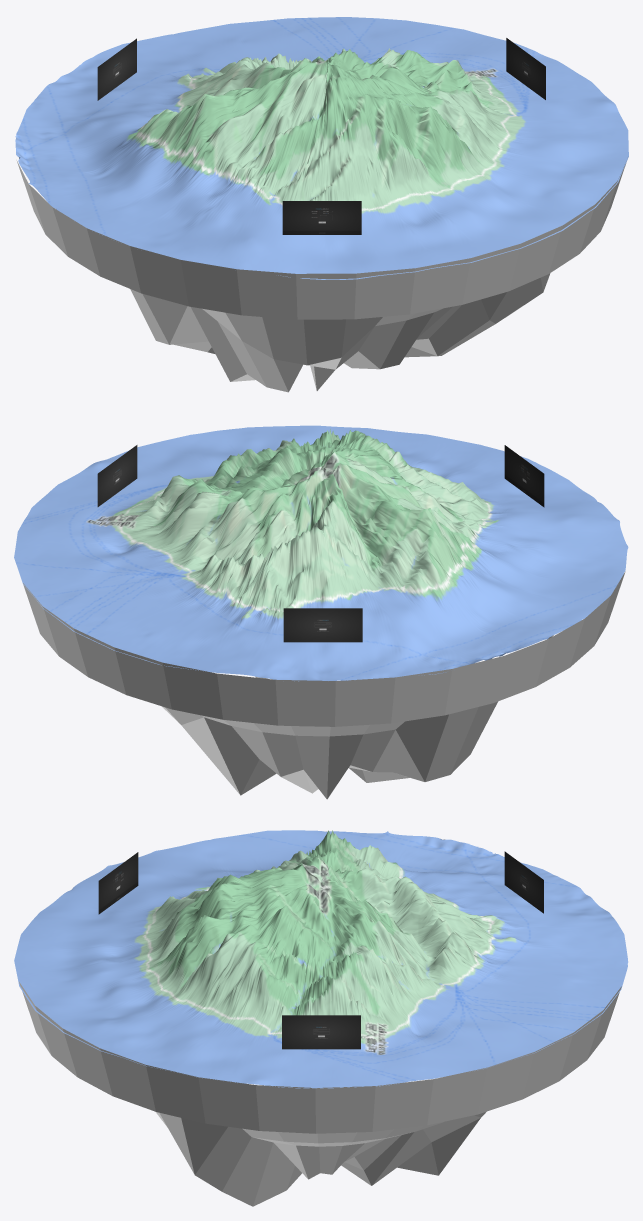
The model's file is generalMap_box5_header9.glb.
3 views of the same model, one above another, from view 1: azimuth 30°, elevation 25°; view 2: azimuth 150°, elevation 25°; view 3: azimuth 270°, elevation 25° (orthographic).
Visible parts, largest first — view 1: EXPORT_GOOGLE_MAP_WM, Sphere, Plane.001, Plane, Plane.002; view 2: EXPORT_GOOGLE_MAP_WM, Sphere, Plane.002, Plane.001, Plane; view 3: EXPORT_GOOGLE_MAP_WM, Sphere, Plane, Plane.001, Plane.002.
Boxes of the visible parts, box(x1,y1,x2,y2) form: EXPORT_GOOGLE_MAP_WM: box(15, 17, 628, 279); Sphere: box(16, 160, 626, 392); Plane.001: box(282, 201, 361, 234); Plane: box(506, 38, 545, 99); Plane.002: box(97, 38, 136, 100); EXPORT_GOOGLE_MAP_WM: box(14, 425, 628, 681); Sphere: box(23, 571, 625, 799); Plane.002: box(283, 608, 362, 642); Plane.001: box(504, 445, 544, 507); Plane: box(97, 445, 137, 506); EXPORT_GOOGLE_MAP_WM: box(14, 830, 628, 1088); Sphere: box(19, 982, 621, 1206); Plane: box(282, 1015, 360, 1049); Plane.001: box(98, 852, 138, 914); Plane.002: box(504, 851, 543, 913).
Bounding box in the file's own units: 327 × 185 × 327.
Materials: 3 (3 with a texture image).
